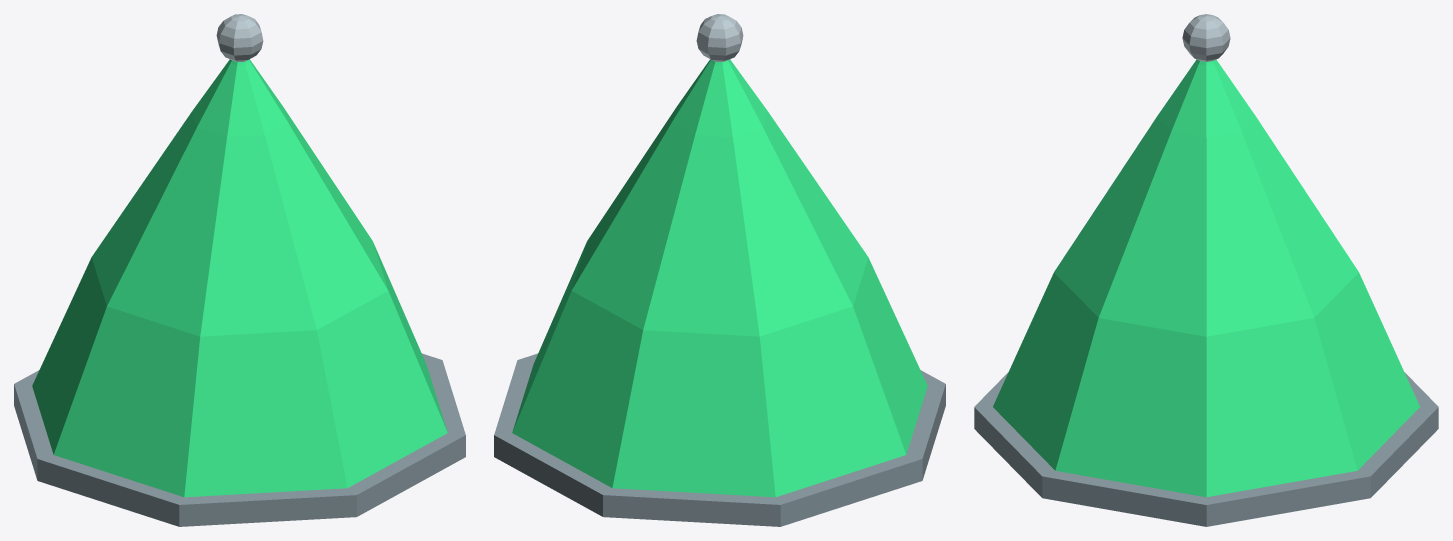
3 renders of one model, left to right at view 1: azimuth 30°, elevation 25°; view 2: azimuth 150°, elevation 25°; view 3: azimuth 270°, elevation 25°, orthographic.
Visible parts, largest first — view 1: Cone01.002, Cone01.001, Cone01; view 2: Cone01.002, Cone01.001, Cone01; view 3: Cone01.002, Cone01.001, Cone01.
Boxes of the visible parts, <box> form: Cone01.002: <box>32,59,447,497</box>; Cone01.001: <box>14,353,465,526</box>; Cone01: <box>216,14,263,61</box>; Cone01.002: <box>512,59,927,497</box>; Cone01.001: <box>494,353,945,526</box>; Cone01: <box>696,14,743,61</box>; Cone01.002: <box>993,59,1419,497</box>; Cone01.001: <box>974,372,1438,526</box>; Cone01: <box>1182,14,1230,61</box>.
Bounding box in the file's own units: 3.52 × 3.45 × 3.52.
